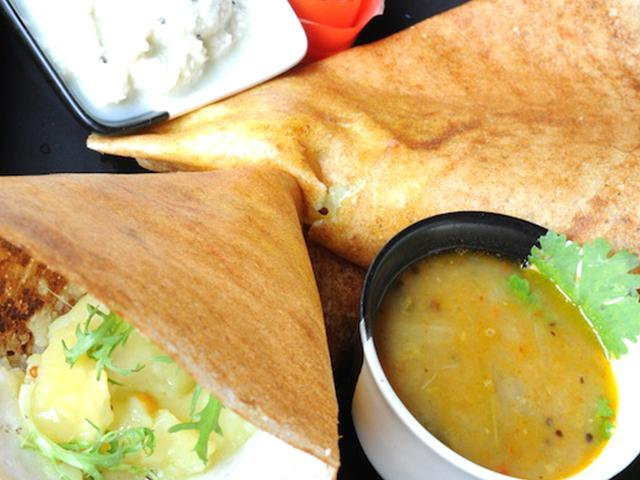dosa: (1, 169, 343, 474)
